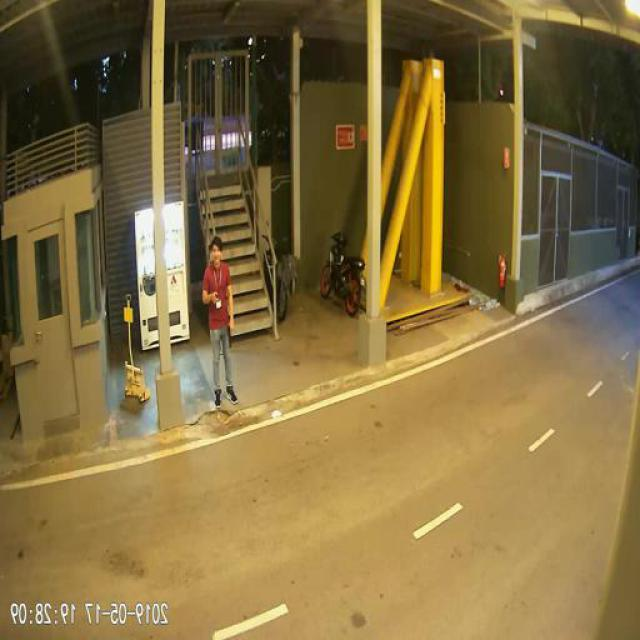Gun: (228, 322, 236, 348)
